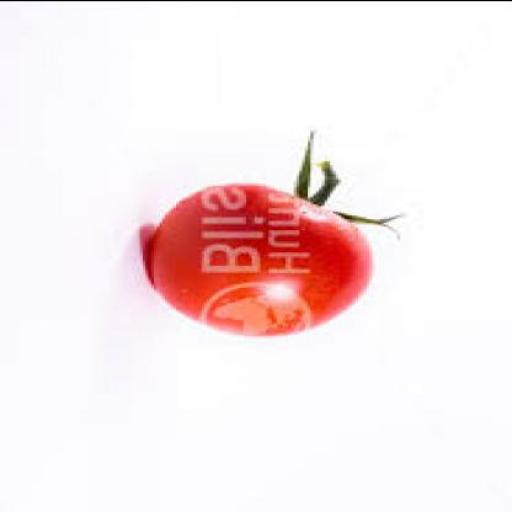biodegradable: (145, 132, 406, 337)
